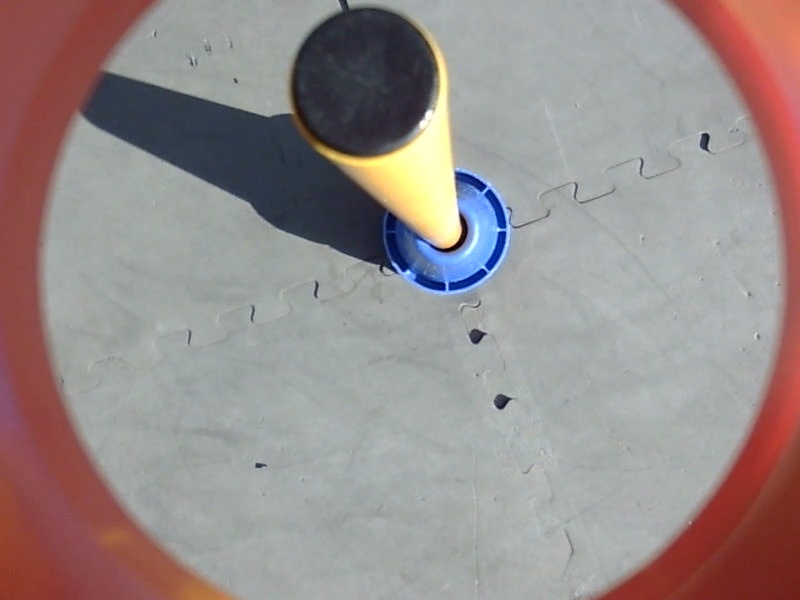tip: (282, 2, 452, 165)
